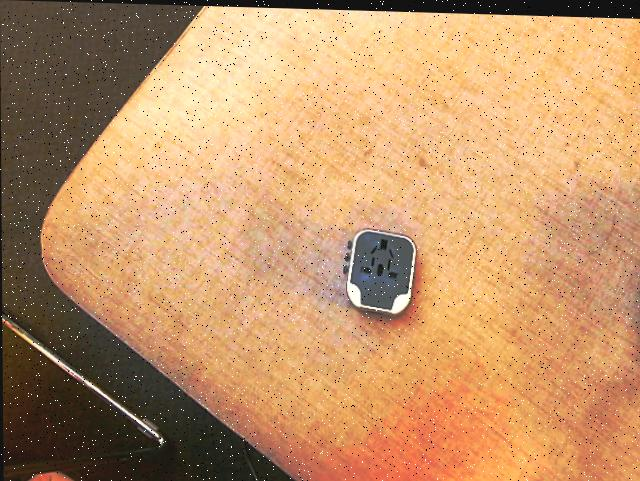adapter: (341, 224, 416, 313)
